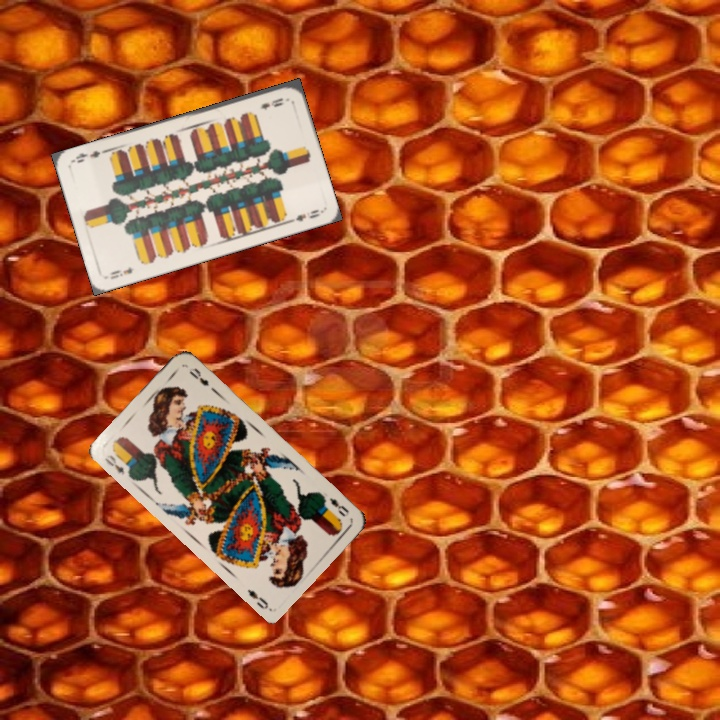E9: (106, 262, 136, 282), (257, 94, 287, 112)
EO: (319, 492, 351, 519), (101, 451, 127, 478)
